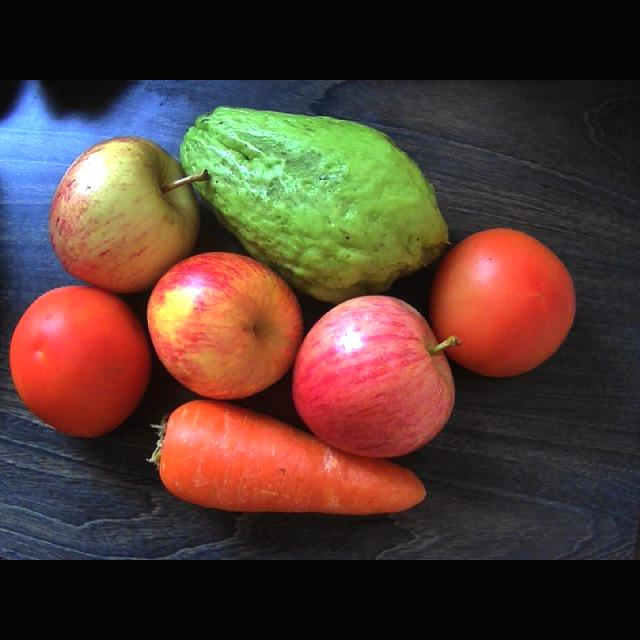chayote: (181, 107, 449, 303)
manzana: (293, 295, 459, 457), (50, 137, 207, 292), (147, 252, 303, 399)
tomate: (431, 229, 576, 376), (10, 286, 151, 437)
zanahoria: (150, 400, 427, 513)
